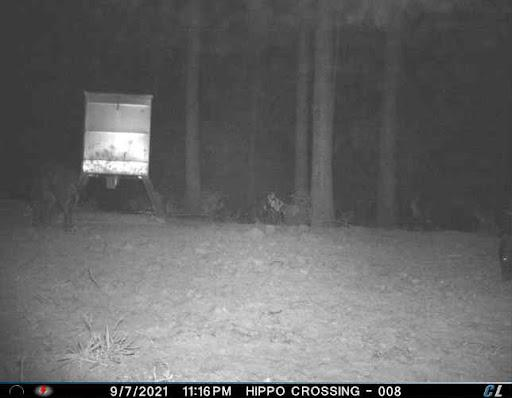Hog: (4, 153, 79, 231), (493, 232, 512, 291)
